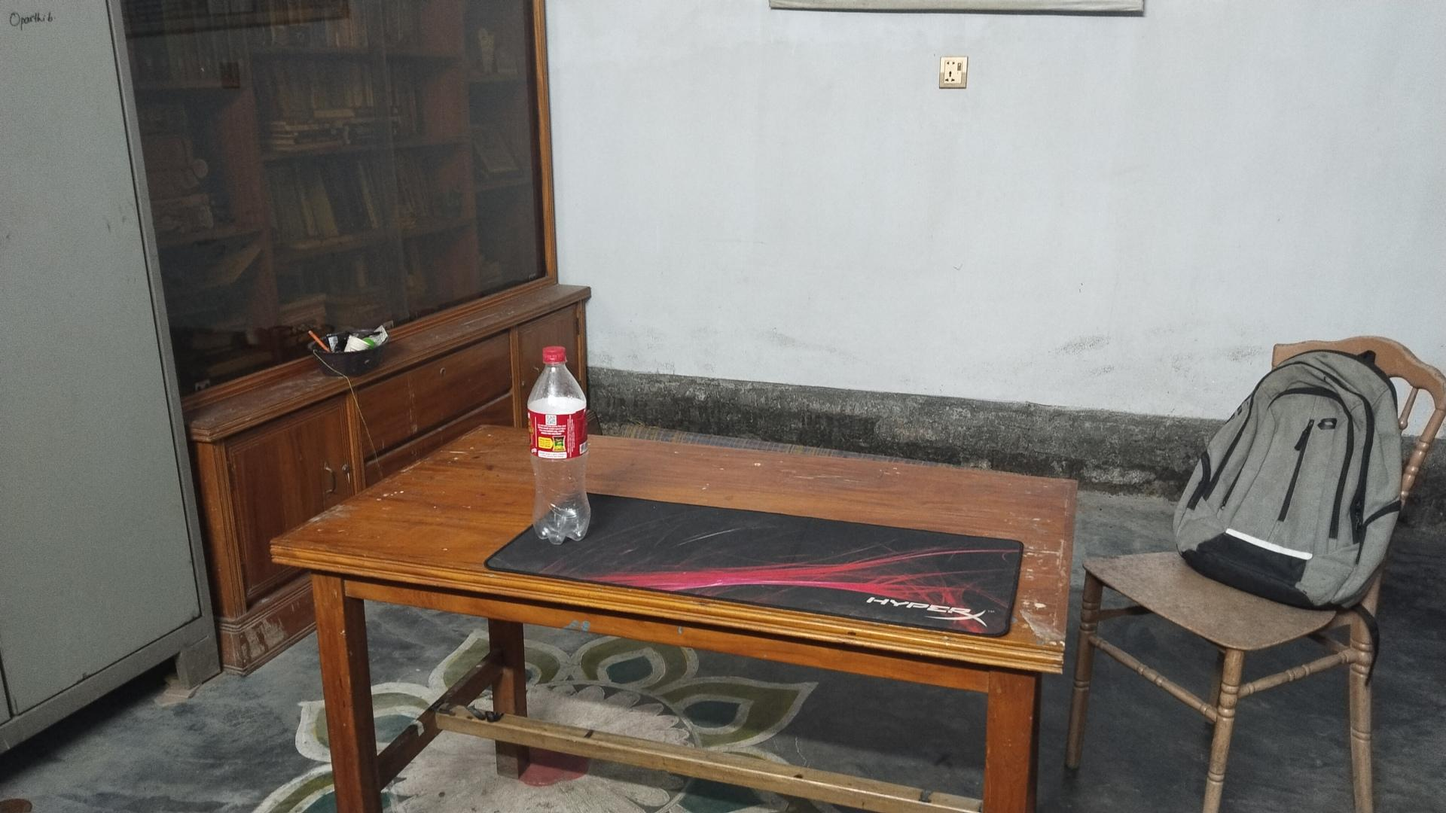Bag: (1180, 347, 1404, 609)
Bottle: (523, 346, 592, 541)
Chair: (1086, 340, 1446, 813)
Table: (275, 412, 1081, 813)
